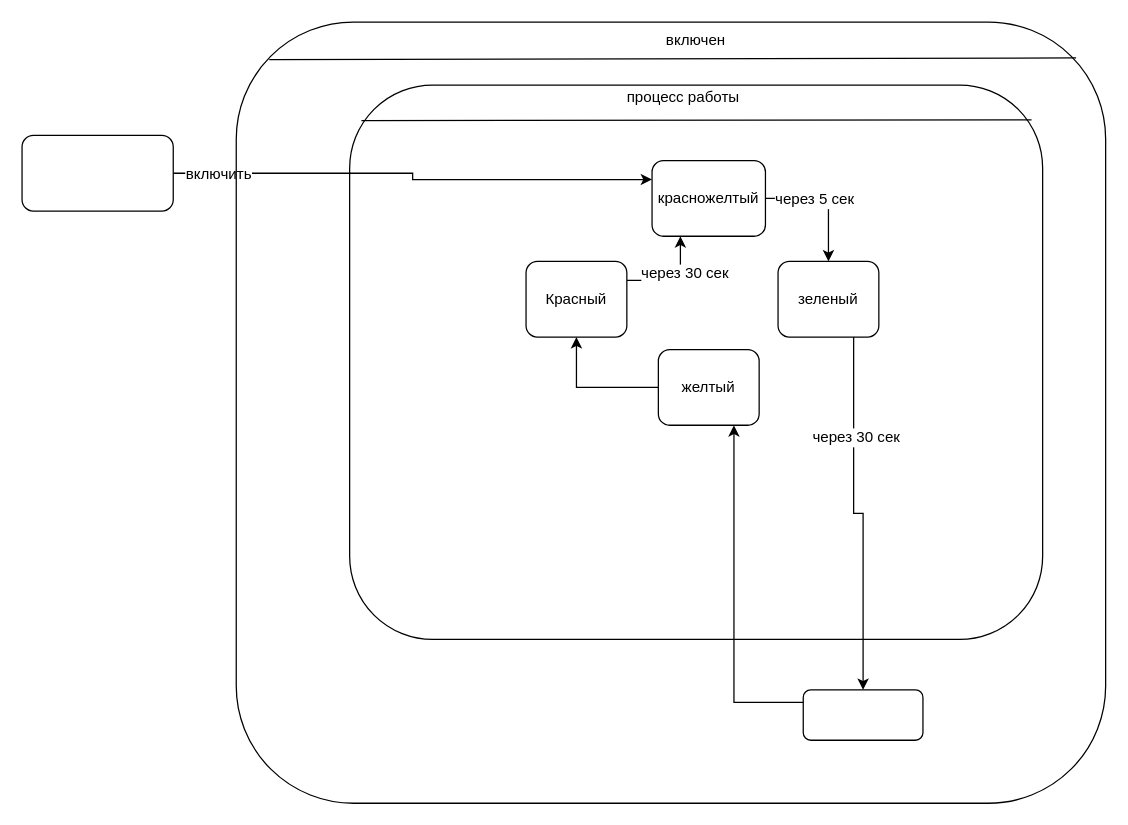
This 1128x825 diagram has some shape labels left out. The centre of each missing label's shape, as x and y in pixels:
"Выключен" belongs at point 97,172.
"мигание" belongs at point 862,714.
